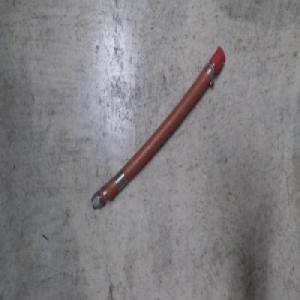Hose: (89, 44, 227, 214)
